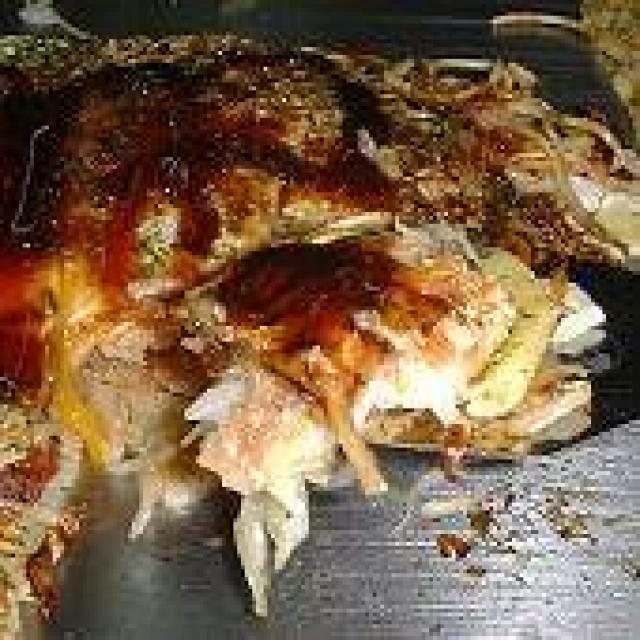蛋糕甜品: (0, 20, 640, 483)
